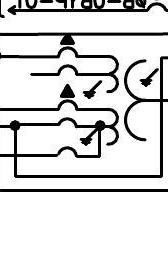115_vt_1p: (56, 33, 160, 147)
